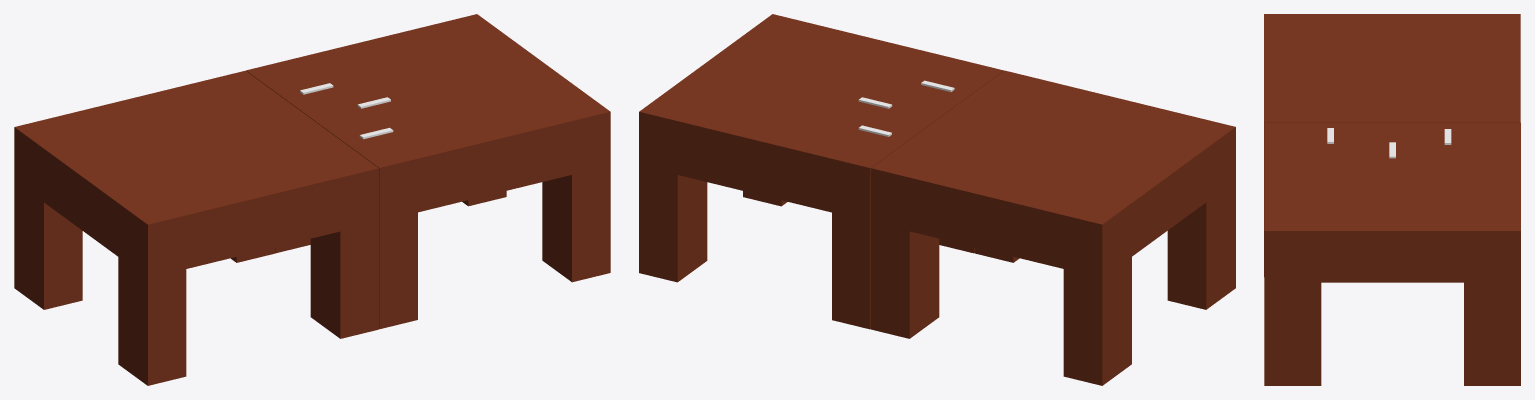
Rendered from keva_yumi.dae.
3 views of the same model, side by side, from view 1: azimuth 30°, elevation 25°; view 2: azimuth 150°, elevation 25°; view 3: azimuth 270°, elevation 25° (orthographic). The views are drawn at different scales.
Visible parts, largest first — view 1: base (×7); view 2: base (×7); view 3: base (×4).
Part boxes in pixels (x1,y1,x2,y2): base (×7): (14,14,610,385); base (×7): (639,14,1235,385); base (×4): (1264,14,1520,385).
Bounding box in the file's own units: 1.8 × 0.9009 × 0.6094.
